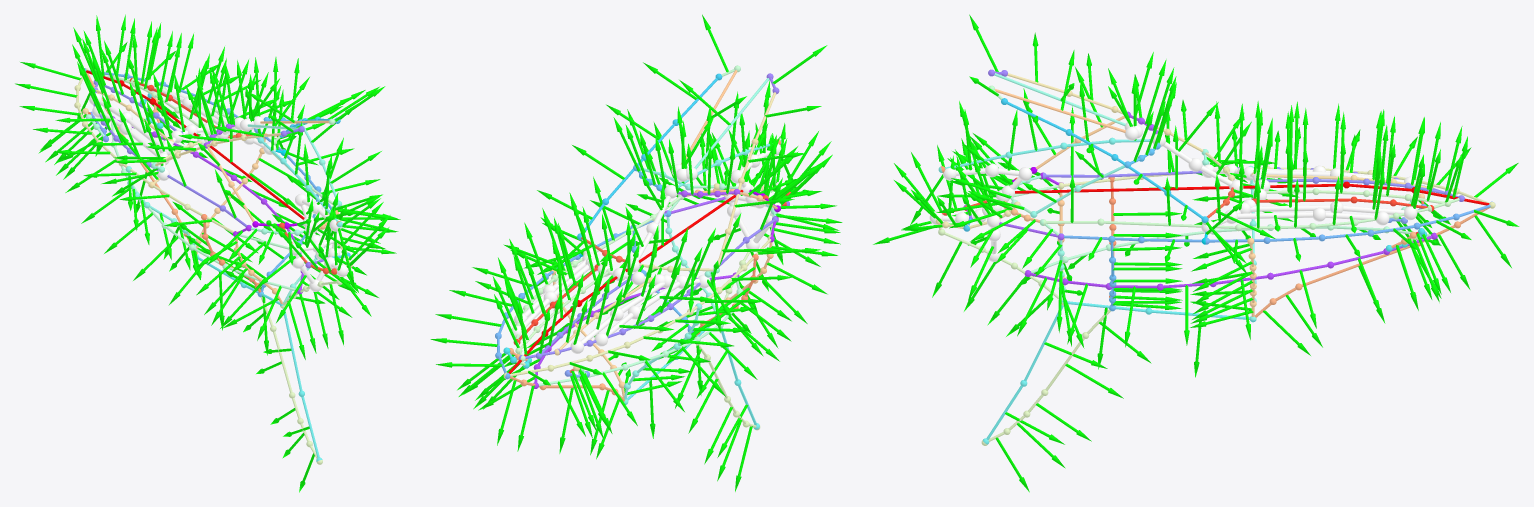
File: ils_boat.gltf
3 renders of one model, left to right at view 1: azimuth 30°, elevation 25°; view 2: azimuth 150°, elevation 25°; view 3: azimuth 270°, elevation 25°, orthographic. The views are drawn at different scales.
Bounding box in the file's own units: 0.4348 × 0.701 × 0.9191.
